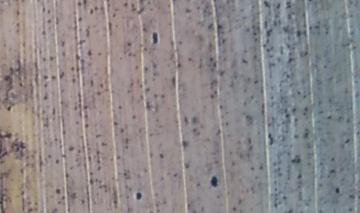tarspot: (3, 58, 22, 82), (150, 30, 160, 47), (208, 76, 218, 93), (1, 141, 8, 163), (210, 174, 219, 189), (1, 131, 14, 141), (180, 138, 189, 151), (266, 132, 274, 146), (182, 159, 192, 170), (107, 20, 113, 37), (290, 154, 300, 164), (134, 190, 143, 201), (145, 98, 152, 111), (343, 137, 353, 146), (171, 74, 177, 89), (82, 121, 91, 131), (286, 56, 296, 65), (265, 28, 274, 38), (182, 115, 189, 127), (215, 126, 222, 138), (75, 39, 87, 46), (281, 24, 290, 33), (67, 144, 77, 152), (252, 52, 260, 62), (262, 1, 271, 9), (274, 1, 282, 10), (157, 152, 166, 160), (240, 56, 248, 65), (53, 187, 62, 195), (86, 48, 94, 57), (42, 81, 50, 90), (136, 6, 144, 15), (295, 172, 304, 180), (347, 192, 355, 201), (302, 130, 310, 139), (325, 113, 333, 122), (334, 186, 341, 196), (263, 17, 269, 28), (100, 140, 108, 148), (183, 6, 191, 14), (284, 1, 291, 10), (119, 126, 126, 135), (58, 70, 65, 79), (77, 15, 84, 24), (207, 22, 214, 31), (295, 29, 301, 39), (285, 207, 295, 213), (216, 22, 223, 30), (175, 61, 182, 69), (41, 73, 48, 81), (42, 93, 49, 101), (81, 103, 88, 111), (48, 54, 56, 61), (218, 69, 225, 77), (328, 167, 336, 174), (74, 52, 81, 60), (284, 71, 291, 79), (59, 40, 66, 48), (111, 12, 118, 20), (303, 104, 310, 112), (252, 36, 259, 44), (141, 26, 149, 33), (89, 6, 94, 17), (208, 54, 214, 63), (303, 49, 309, 58), (41, 5, 47, 14), (224, 120, 230, 129), (116, 104, 123, 111), (50, 74, 57, 81), (126, 41, 133, 48), (142, 65, 149, 72), (52, 136, 59, 143), (186, 55, 193, 62), (257, 163, 264, 170), (251, 30, 258, 37), (313, 24, 320, 31), (96, 51, 103, 58), (6, 104, 12, 112), (112, 119, 118, 127), (253, 78, 259, 86), (291, 106, 297, 114), (98, 81, 104, 89), (330, 155, 336, 163), (40, 28, 46, 36), (46, 7, 52, 15), (15, 9, 21, 17), (141, 45, 149, 51), (70, 76, 76, 84), (217, 102, 223, 110), (177, 38, 183, 46), (221, 37, 226, 46), (131, 113, 137, 120), (54, 158, 60, 165), (17, 81, 23, 88), (145, 86, 151, 93), (122, 1, 128, 8), (212, 61, 218, 68), (295, 89, 301, 96), (45, 17, 51, 24), (172, 171, 178, 178), (347, 205, 353, 212), (95, 90, 102, 96), (122, 170, 128, 177), (209, 92, 214, 100), (41, 55, 46, 63), (284, 113, 290, 119), (76, 1, 82, 7), (69, 65, 75, 71), (281, 193, 286, 200), (307, 24, 312, 31), (82, 1, 87, 7), (138, 1, 145, 5), (307, 1, 313, 3)
